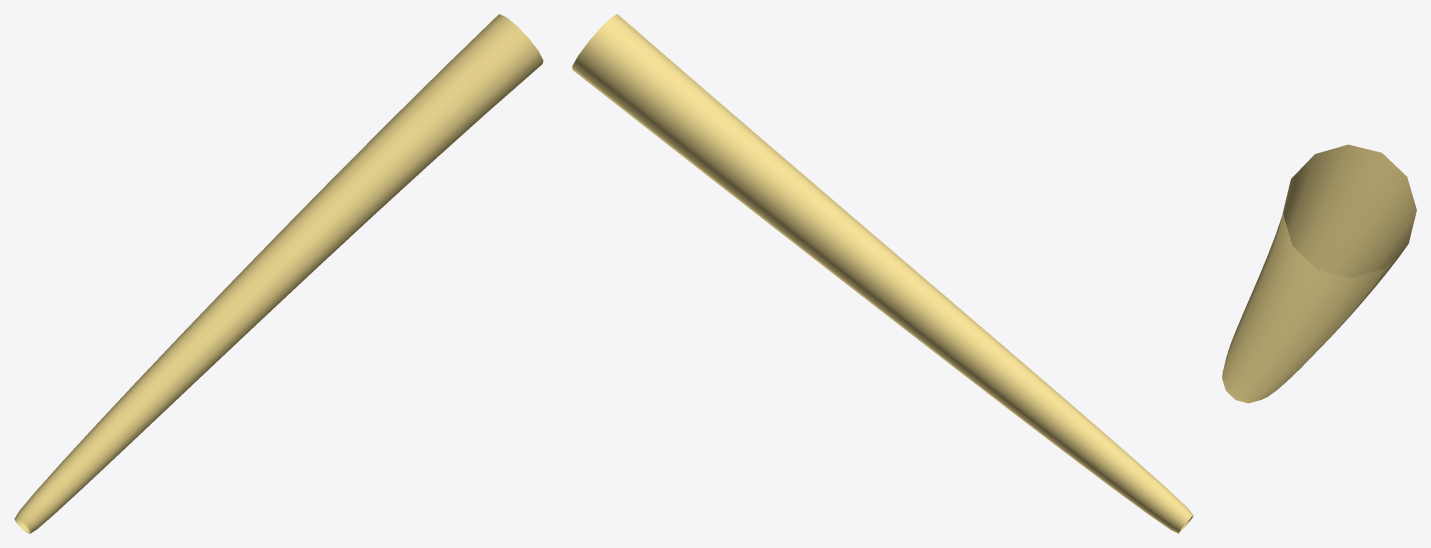
3 renders of one model, left to right at view 1: azimuth 30°, elevation 25°; view 2: azimuth 150°, elevation 25°; view 3: azimuth 270°, elevation 25°, orthographic. The views are drawn at different scales.
Parts seen in each view (by area): view 1: ZA_8240576158da6963; view 2: ZA_8240576158da6963; view 3: ZA_8240576158da6963.
Boxes of the visible parts, box(x1,y1,x2,y2) form: ZA_8240576158da6963: box(14, 14, 543, 533); ZA_8240576158da6963: box(572, 14, 1193, 533); ZA_8240576158da6963: box(1222, 144, 1416, 403).
Size of the model in its own units: 0.0281 by 0.0185 by 0.00435.
